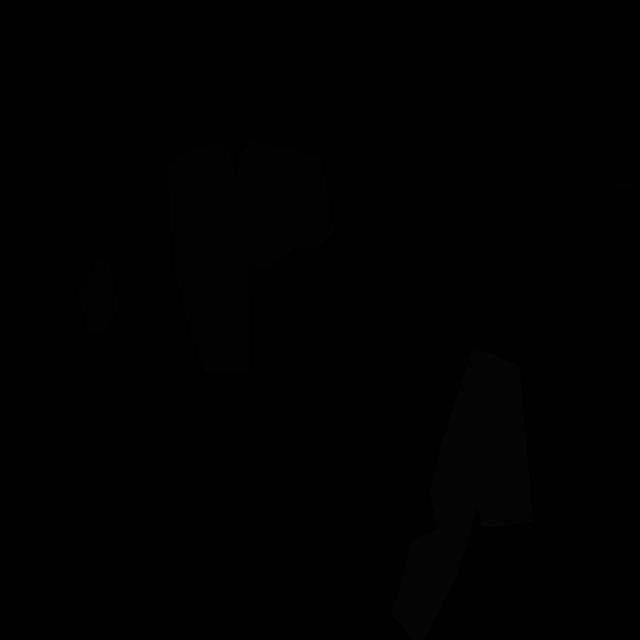cardboard: (167, 143, 252, 373), (236, 140, 334, 271), (75, 261, 119, 334)
rigid_plastic: (578, 7, 640, 191)
soft_plastic: (391, 347, 533, 640)
